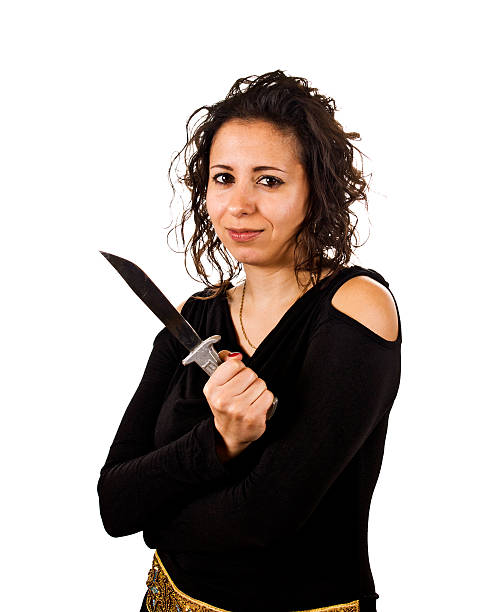knife: (95, 246, 226, 376)
